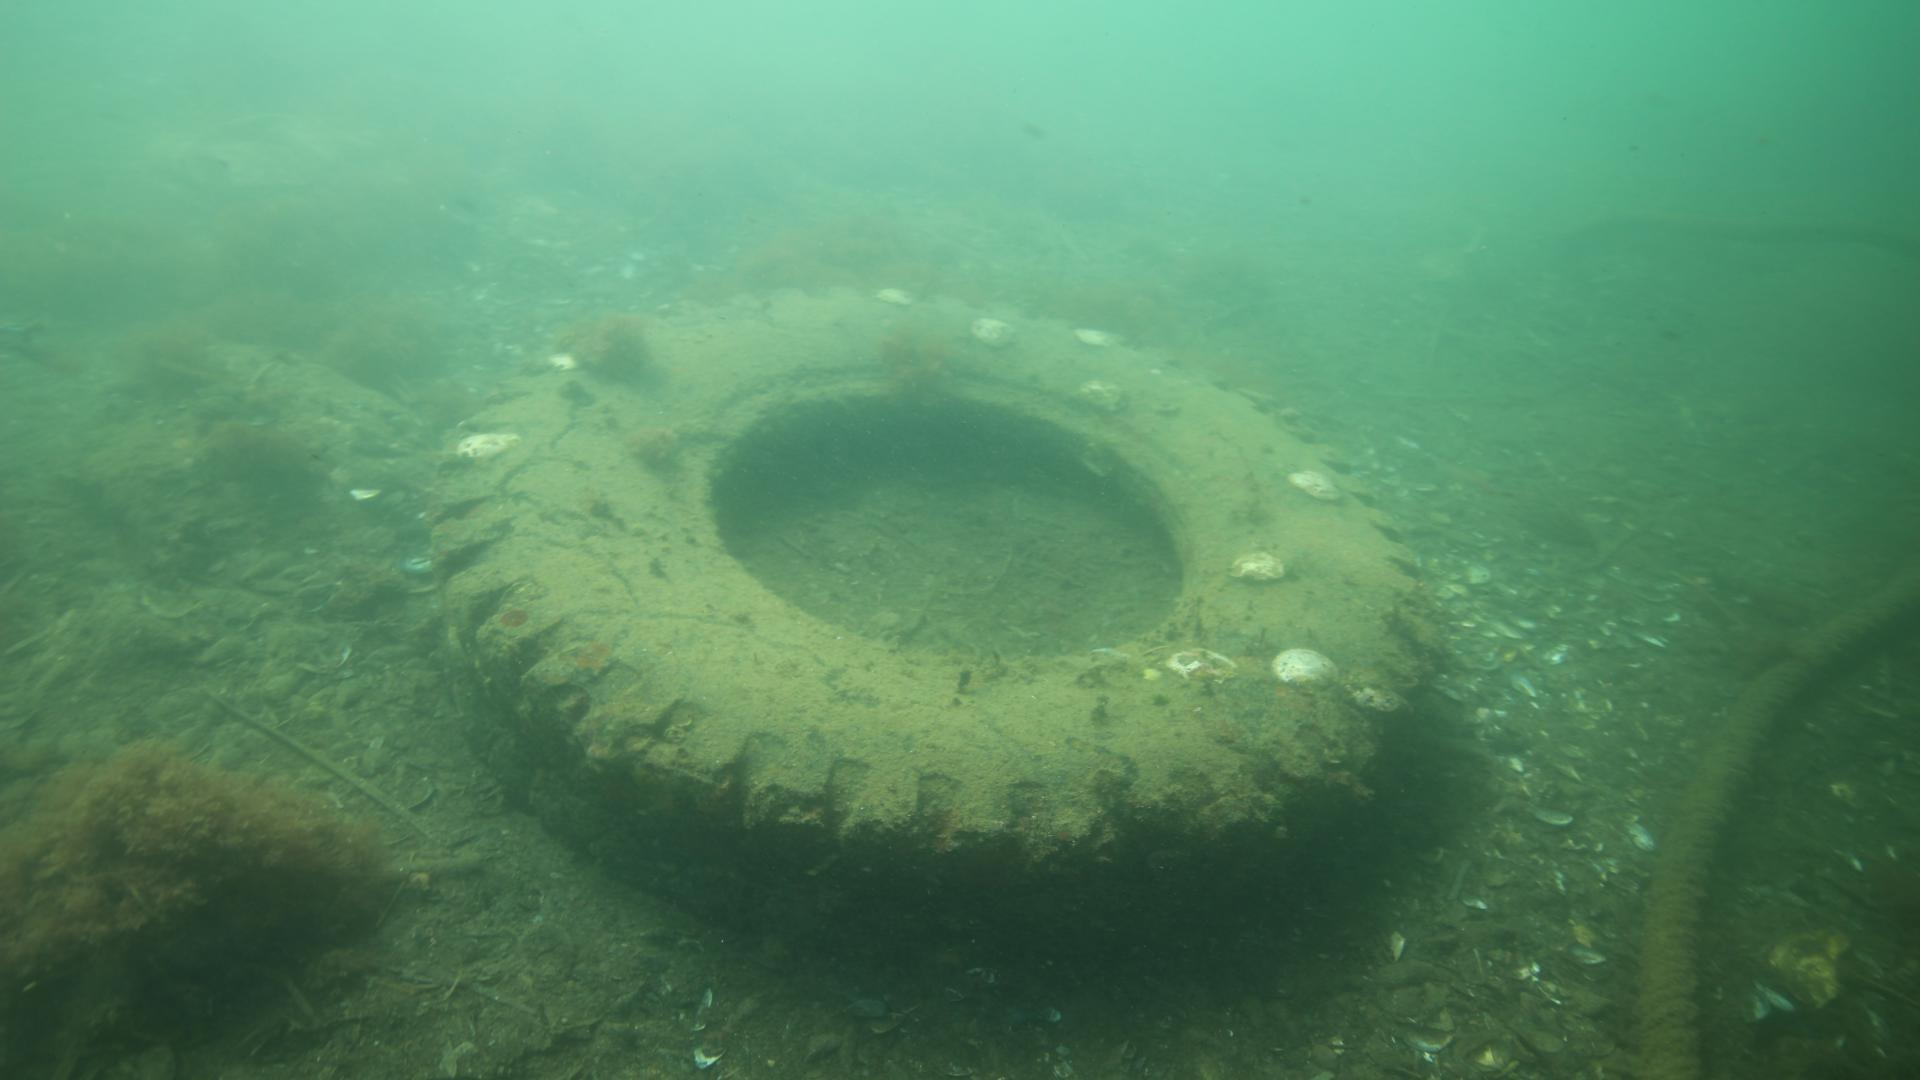rope: (1633, 583, 1920, 1080)
tire: (439, 280, 1447, 934)
